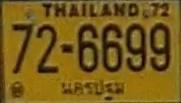2: (36, 24, 57, 72)
6: (77, 23, 97, 71), (101, 23, 121, 71)
7: (12, 23, 32, 73)
9: (124, 23, 146, 71), (150, 22, 170, 70)
NPT: (57, 77, 128, 101)
